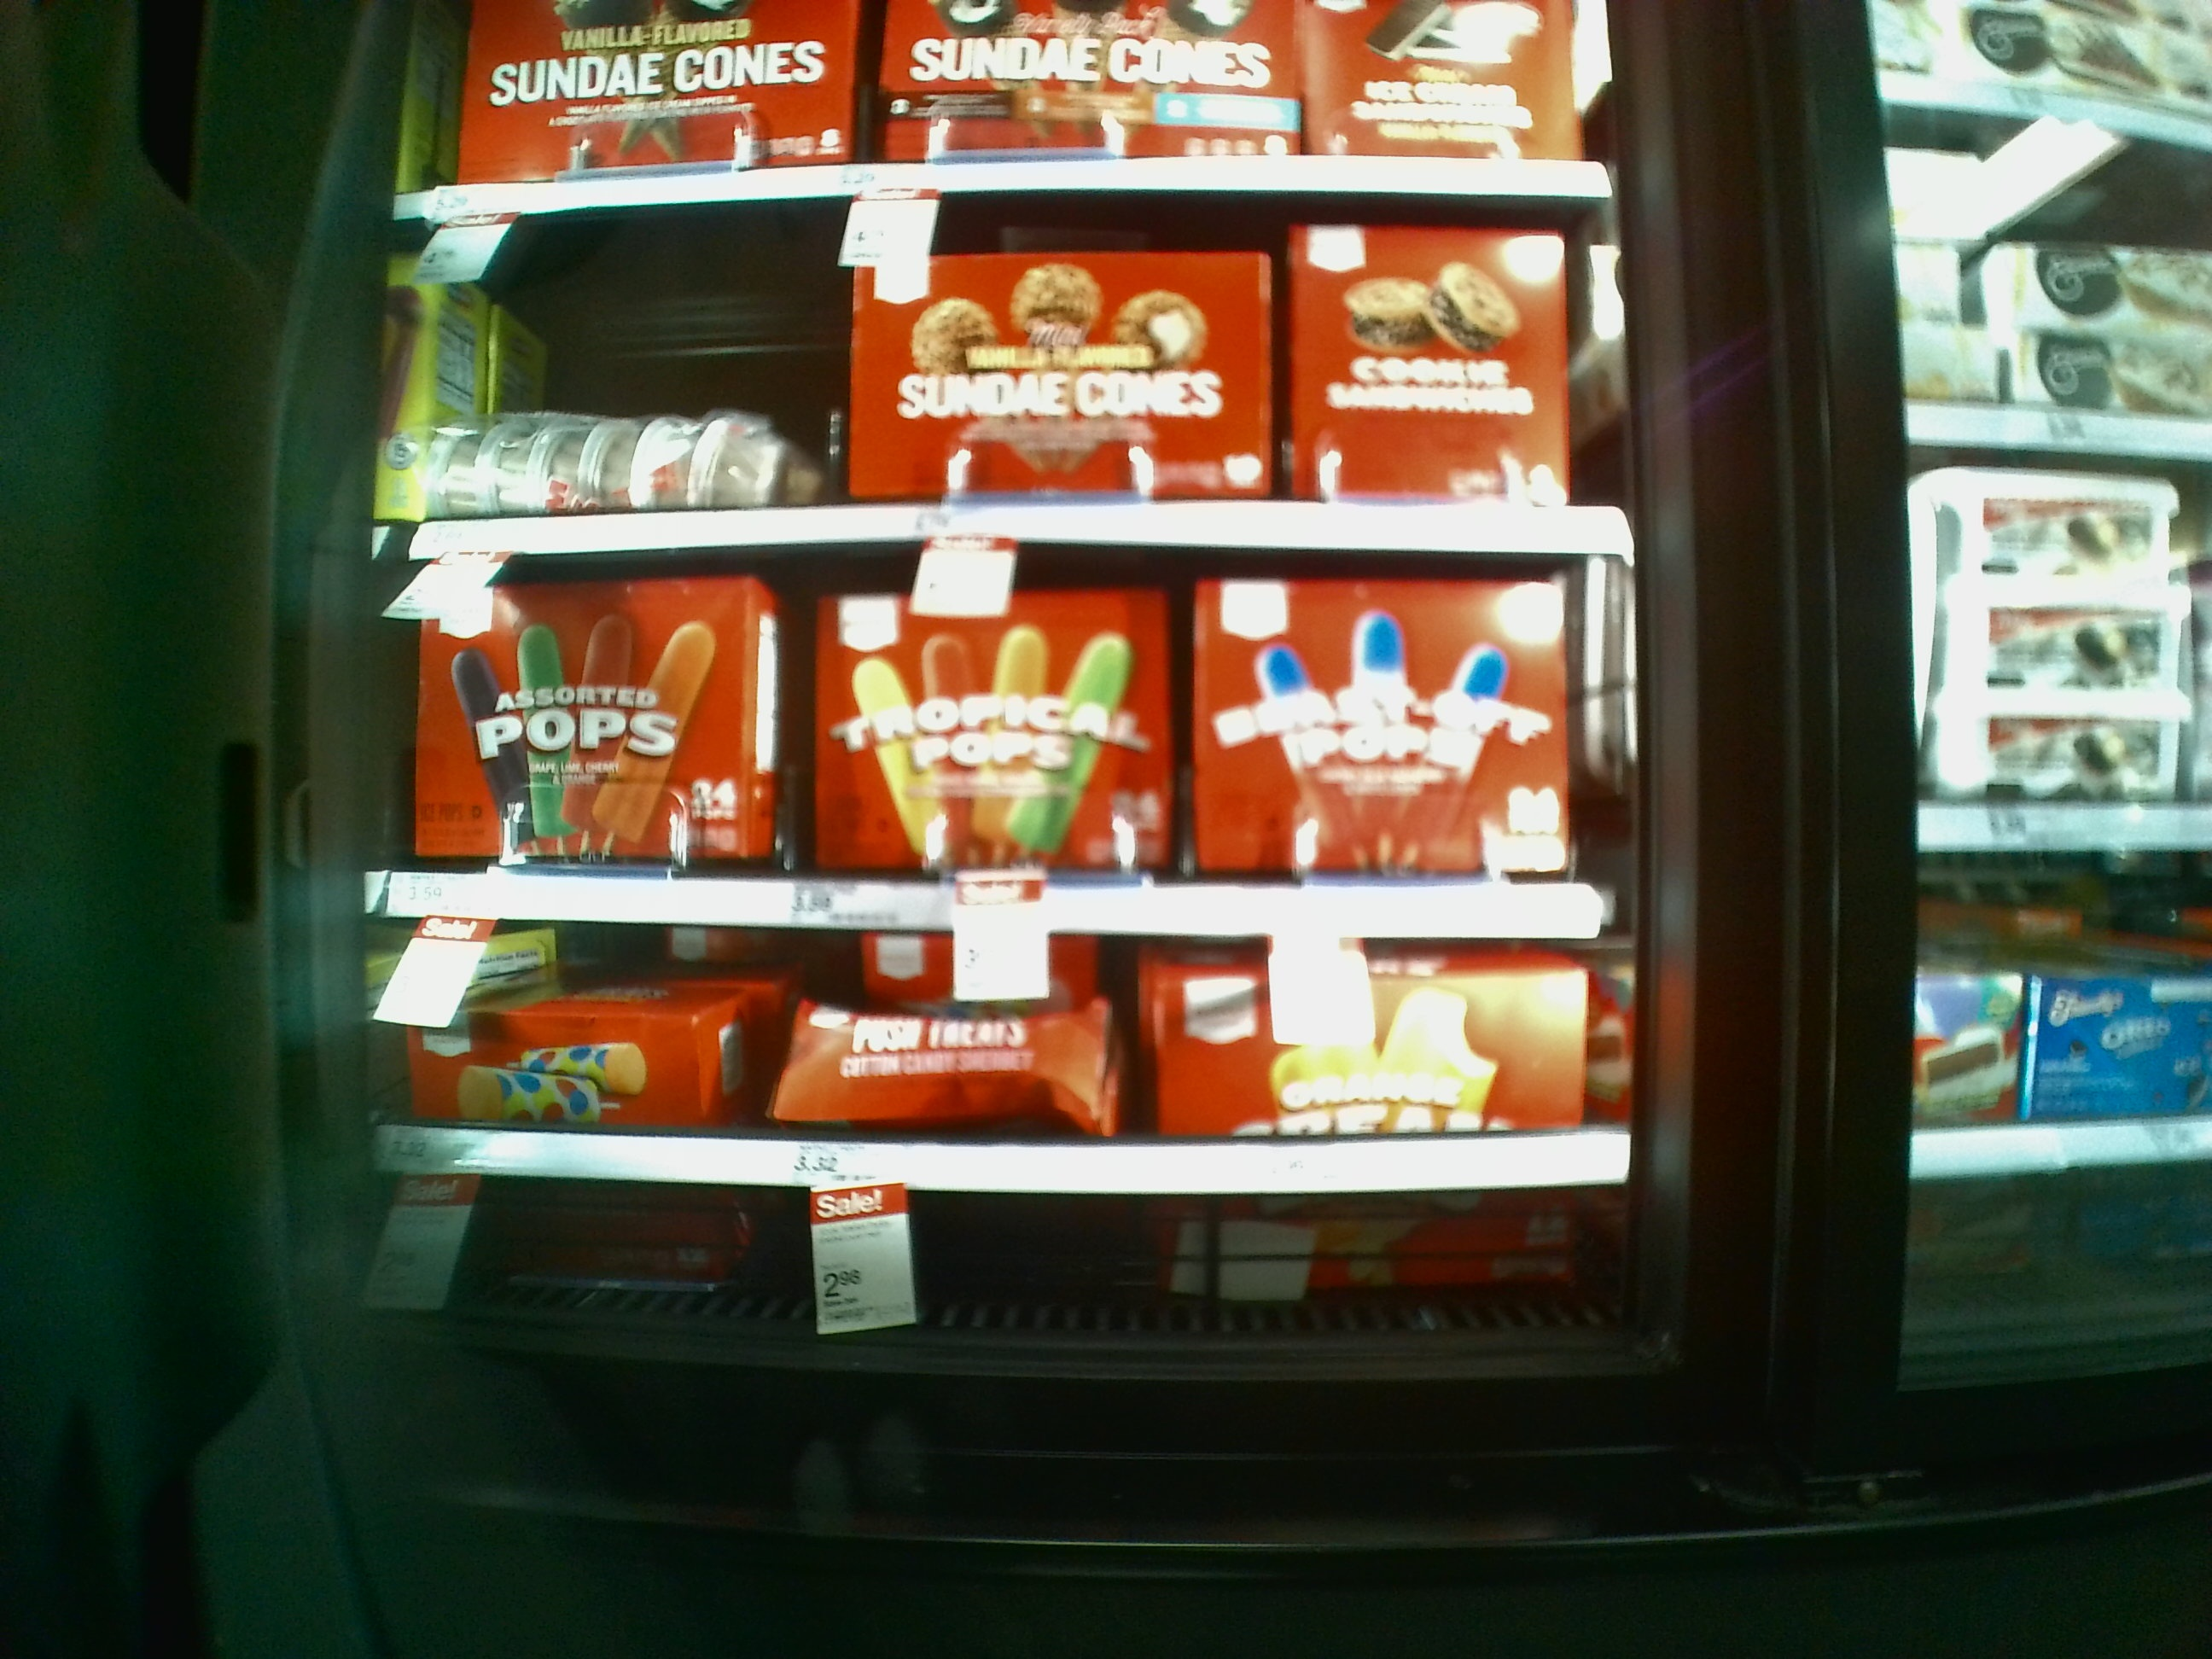shelf: (366, 920, 1649, 1361), (381, 568, 1632, 929), (378, 225, 1629, 558)
